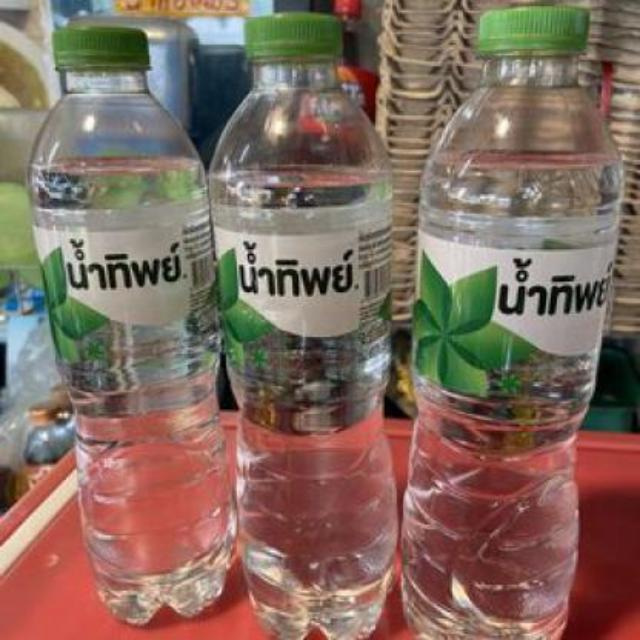bottle: (404, 4, 623, 640), (28, 24, 240, 625), (209, 12, 399, 640)
